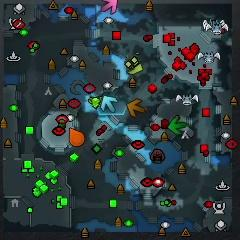p5: (70, 128, 85, 146)
x1: (101, 0, 118, 14)
x2: (127, 59, 143, 74)
x3: (101, 95, 118, 112)
x4: (168, 115, 186, 134)
x5: (126, 99, 144, 116)
